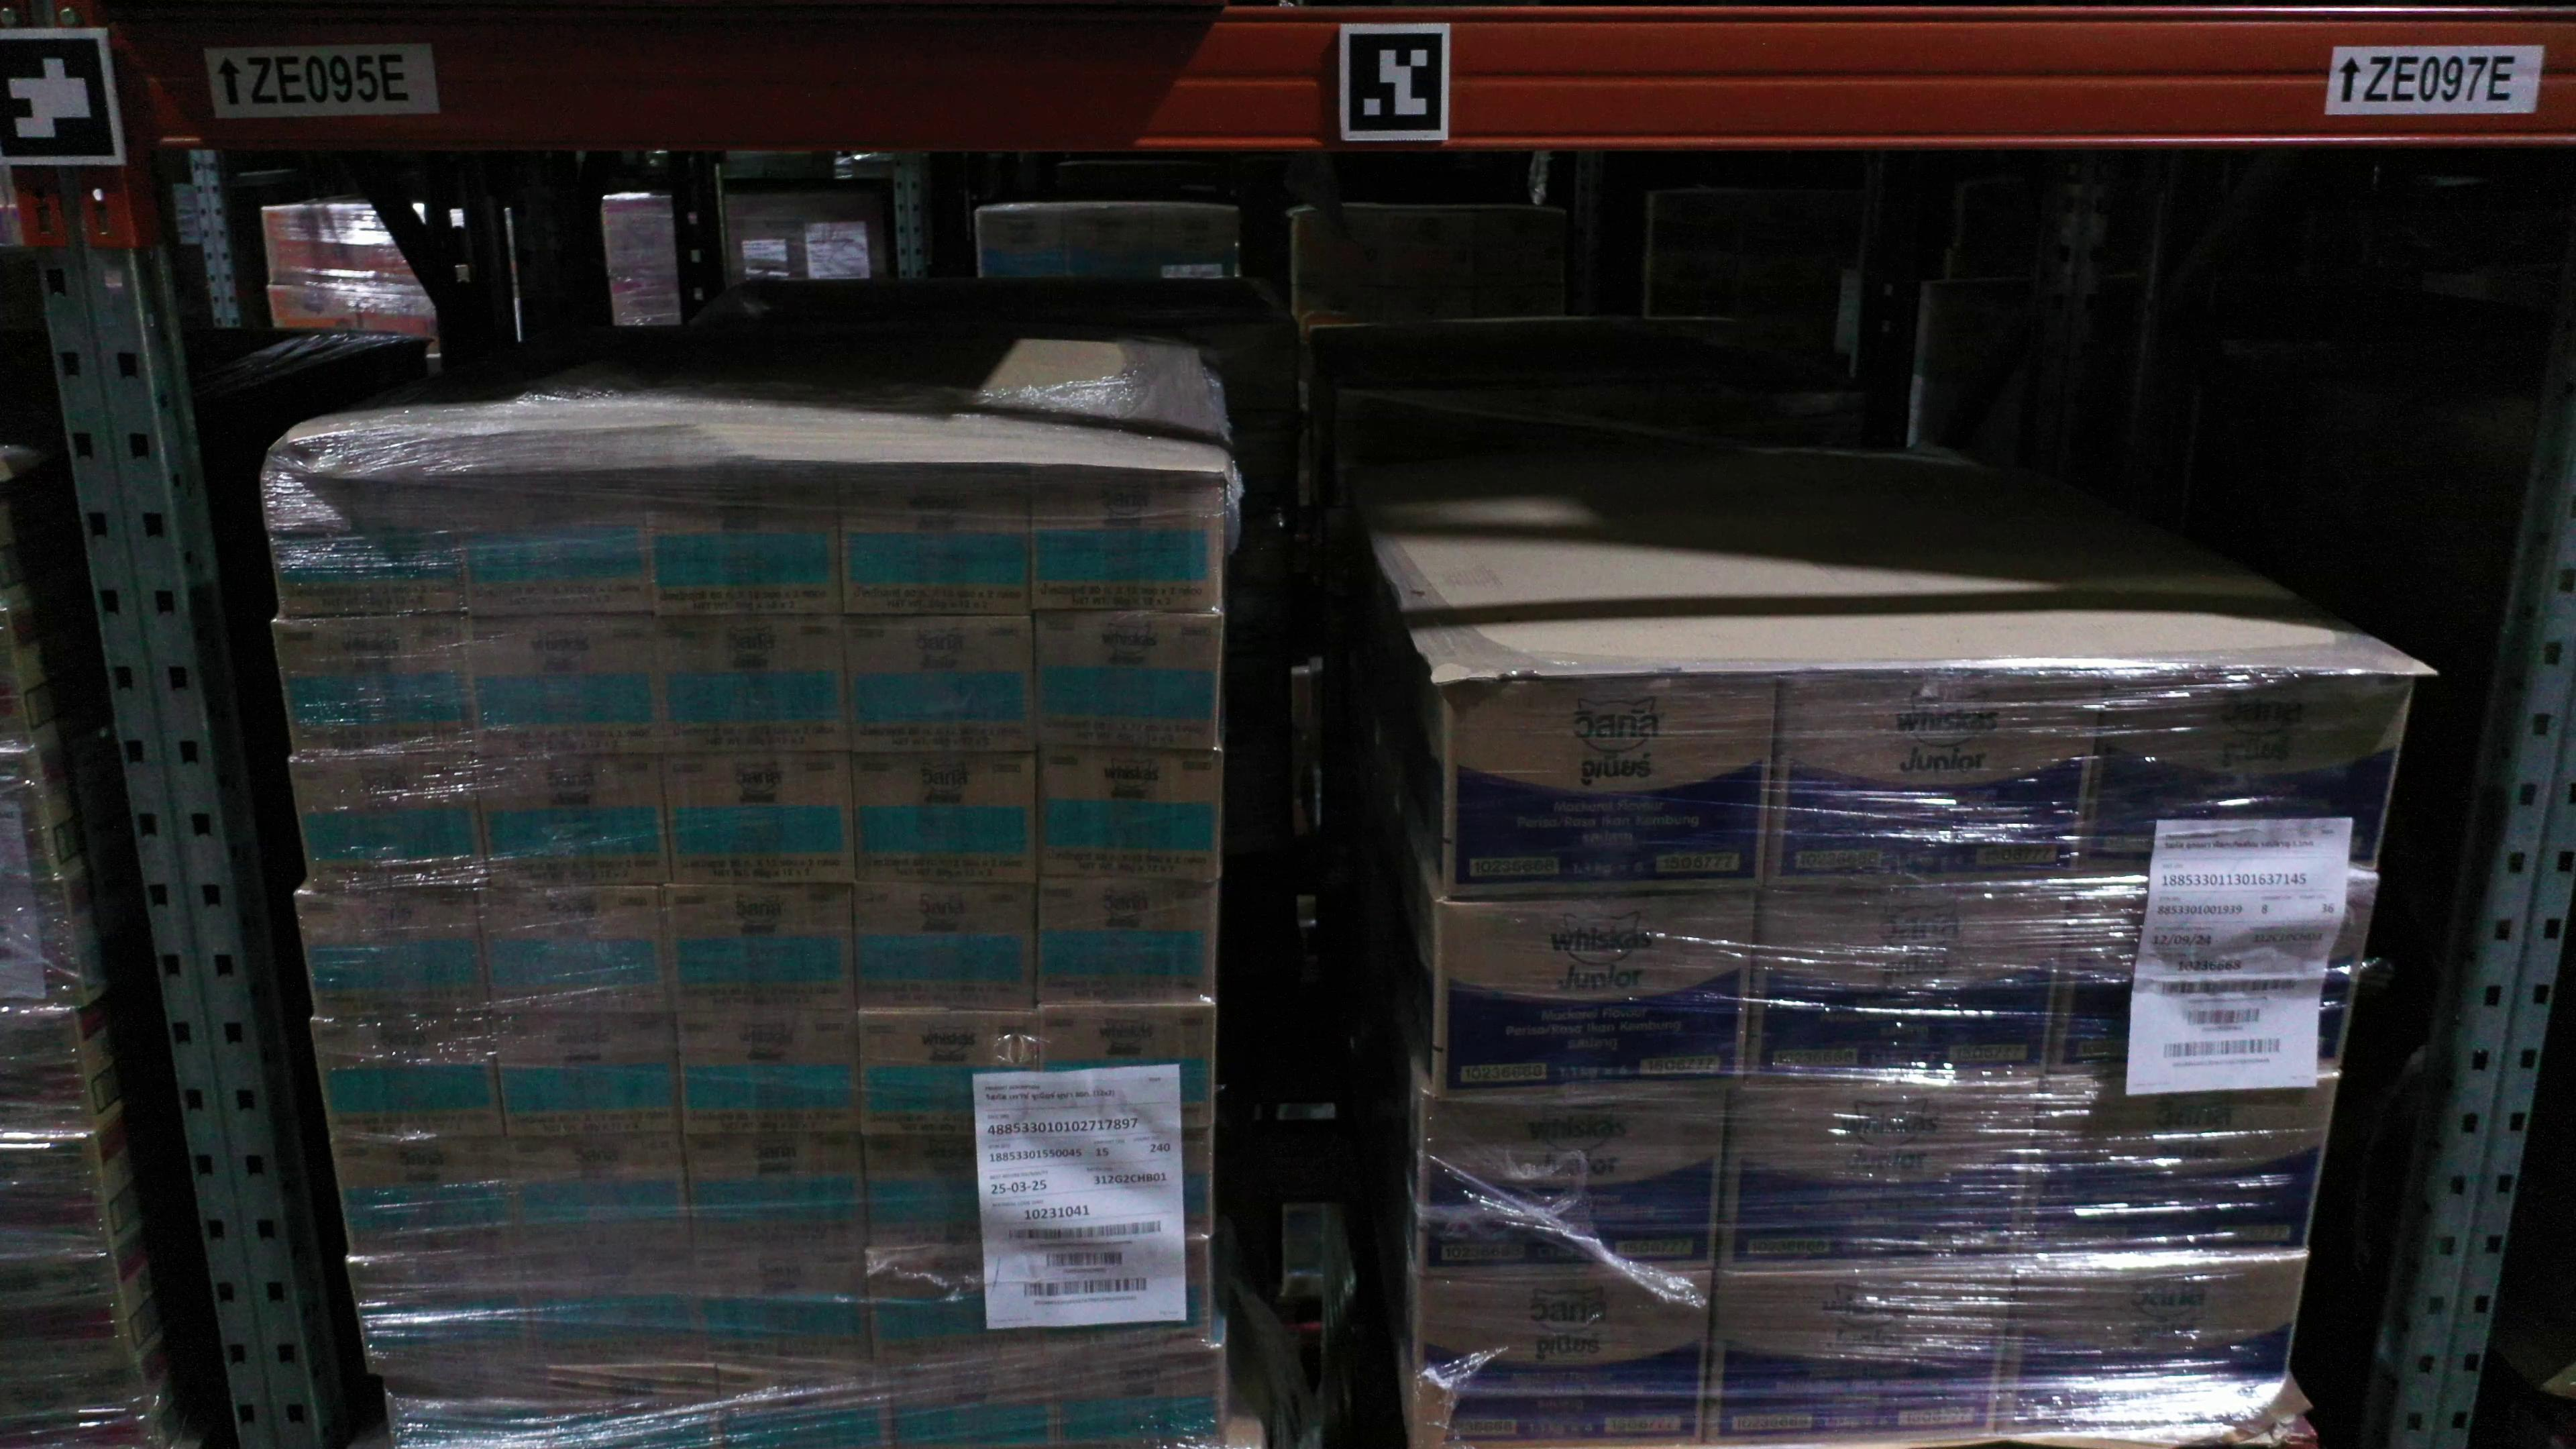-: (1764, 667, 2102, 892), (1440, 676, 1773, 901), (2079, 669, 2417, 883), (1435, 899, 1757, 1102), (1746, 888, 2070, 1090), (2056, 879, 2373, 1083), (1720, 1085, 2040, 1277), (2022, 1079, 2337, 1269), (1415, 1095, 1729, 1279), (1994, 1260, 2305, 1438), (1702, 1272, 2015, 1444), (1417, 1274, 1711, 1449), (451, 617, 672, 761), (264, 469, 465, 625), (644, 465, 847, 617), (451, 464, 653, 612), (1031, 456, 1223, 612), (271, 616, 472, 763), (846, 460, 1035, 616), (472, 754, 676, 890), (287, 755, 492, 890), (655, 617, 855, 755), (847, 612, 1037, 755), (1037, 610, 1223, 752), (290, 888, 492, 1017), (669, 881, 862, 1016), (858, 879, 1044, 1014), (315, 1016, 506, 1145), (1040, 748, 1226, 881), (667, 752, 856, 881), (865, 1247, 1056, 1375), (481, 888, 667, 1017), (497, 1010, 685, 1138), (347, 1256, 540, 1380), (1037, 876, 1219, 1007), (855, 754, 1037, 883), (1042, 1001, 1219, 1134), (678, 1010, 863, 1136), (333, 1138, 518, 1261), (510, 1136, 695, 1260), (858, 1014, 1042, 1134), (685, 1138, 870, 1256), (1042, 1240, 1210, 1371), (697, 1251, 879, 1371), (867, 1136, 1051, 1253), (520, 1256, 709, 1369), (1042, 1129, 1210, 1253), (1058, 1346, 1230, 1449), (0, 1253, 134, 1371), (715, 1364, 895, 1449), (552, 1368, 734, 1449), (888, 1364, 1062, 1449), (0, 1129, 113, 1254), (0, 1359, 156, 1449), (0, 874, 90, 1010), (0, 1007, 96, 1134), (389, 1378, 554, 1449), (0, 747, 62, 879)
